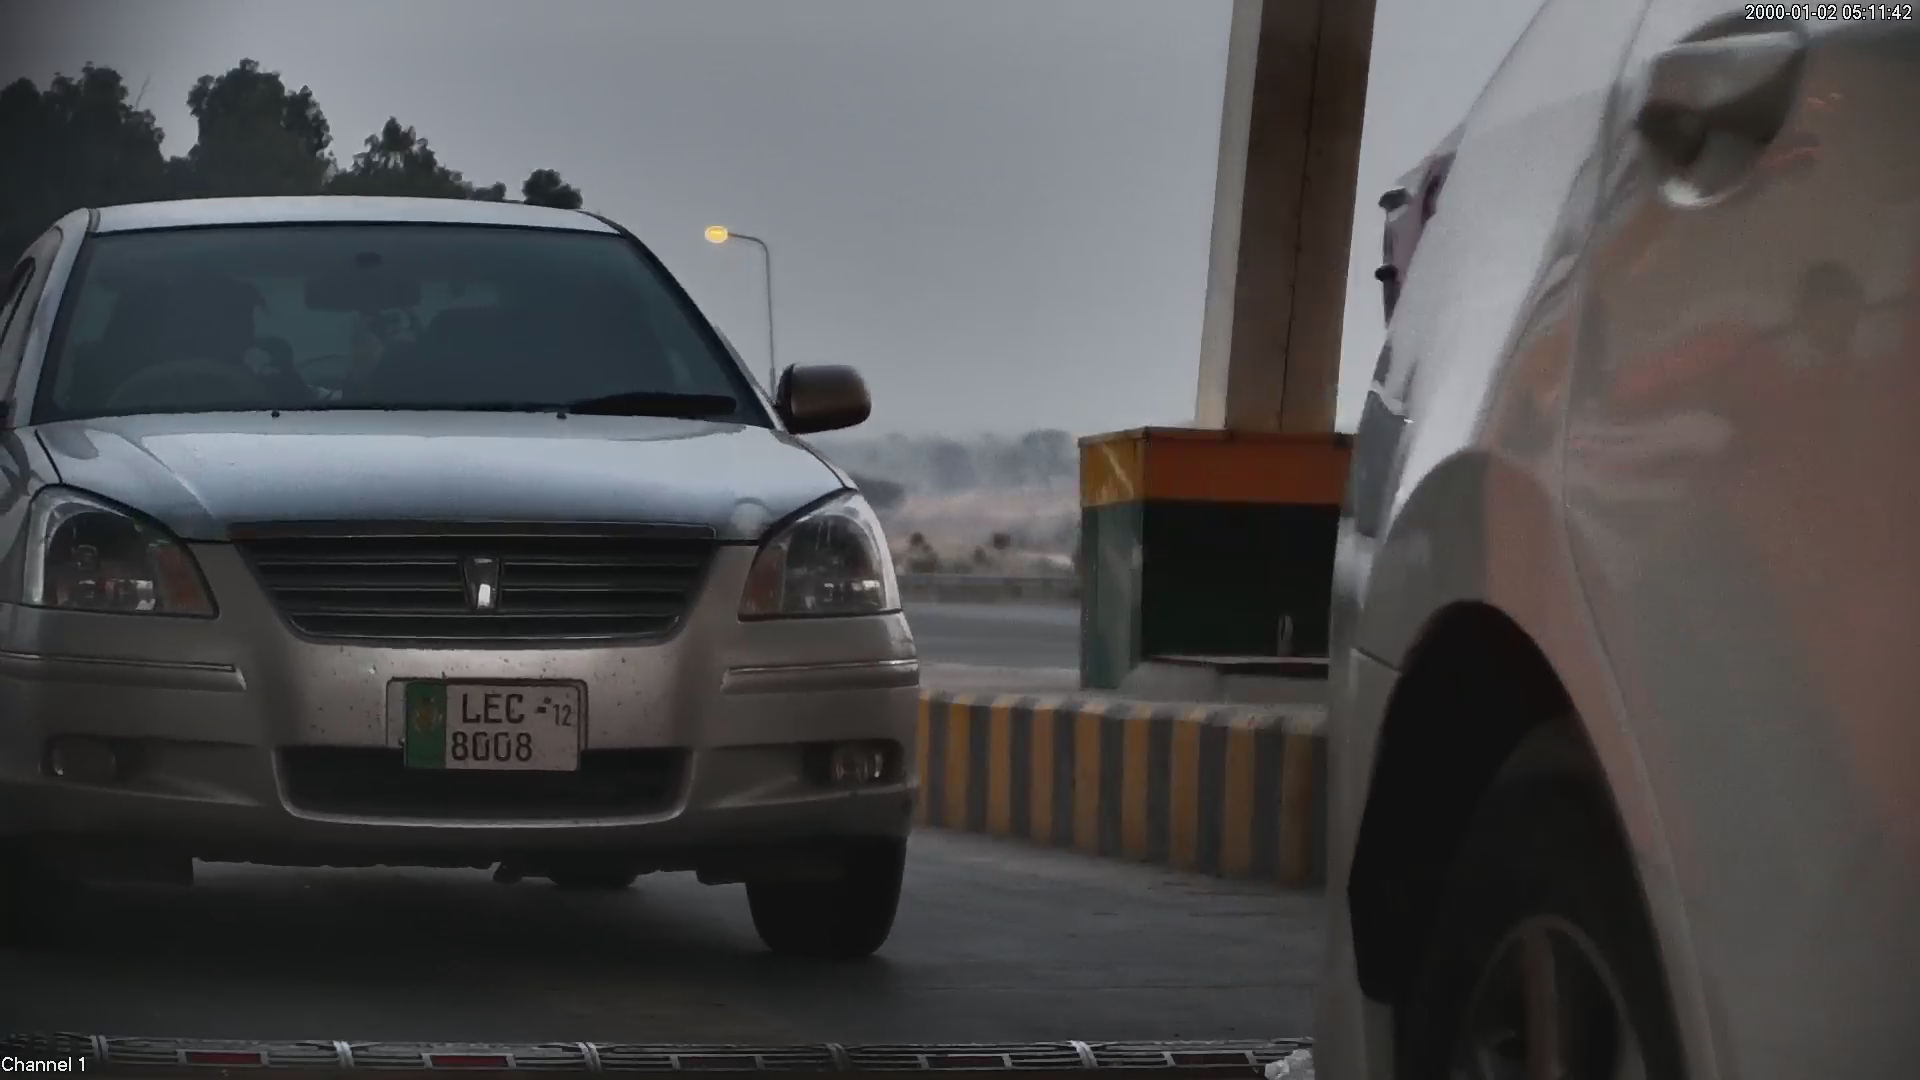Number_Plate: (394, 667, 598, 786)
